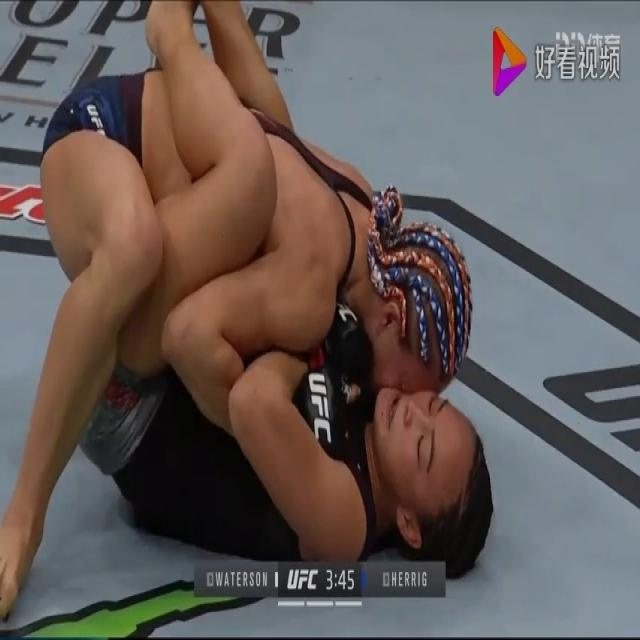fight: (5, 0, 495, 615)
